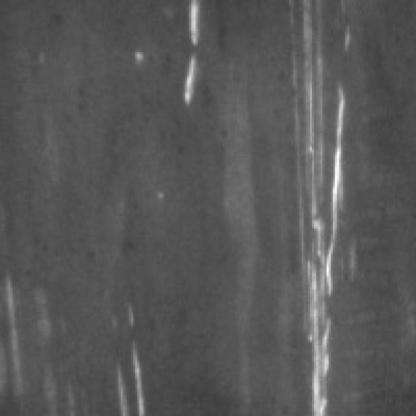scratches: (285, 0, 352, 410), (110, 287, 152, 412), (177, 0, 208, 110)
